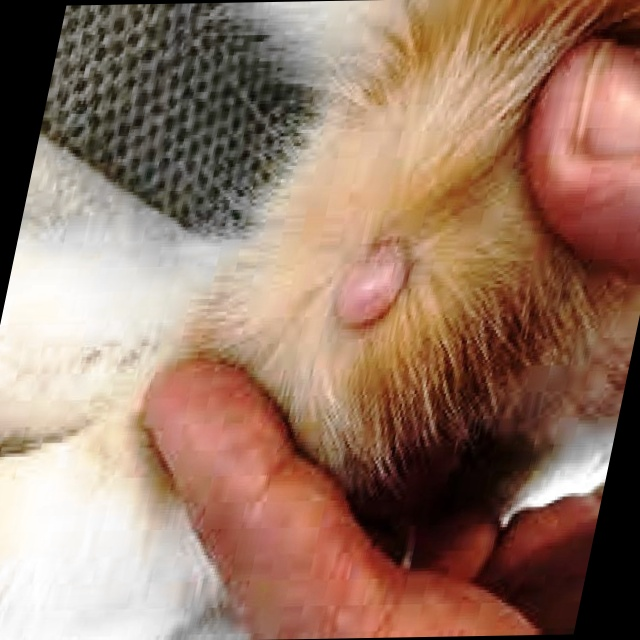lump_and_bump: (328, 242, 418, 326)
